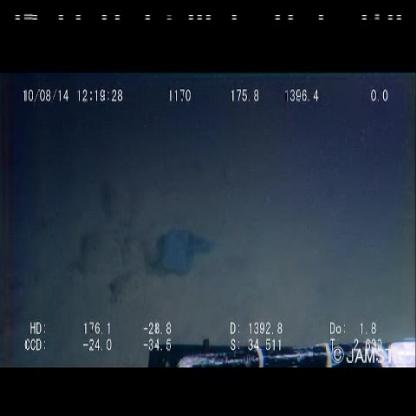Rov: (146, 330, 416, 370)
Rác: (140, 214, 221, 286)
